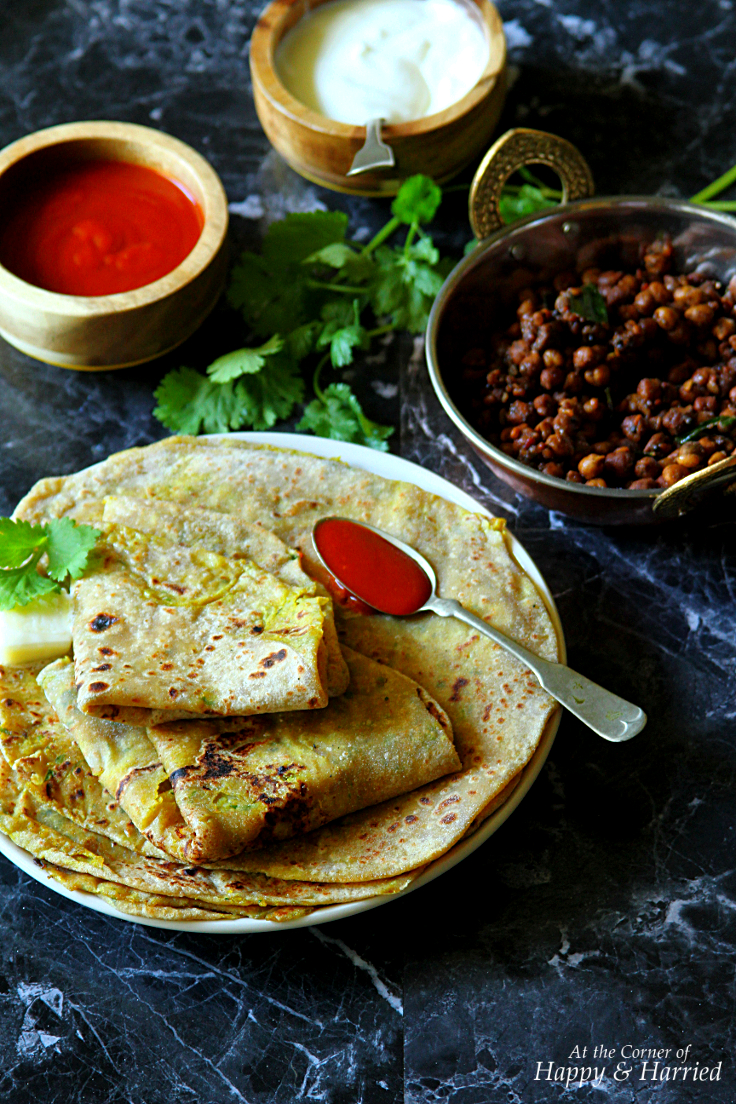aloo_paratha: (1, 441, 588, 934)
